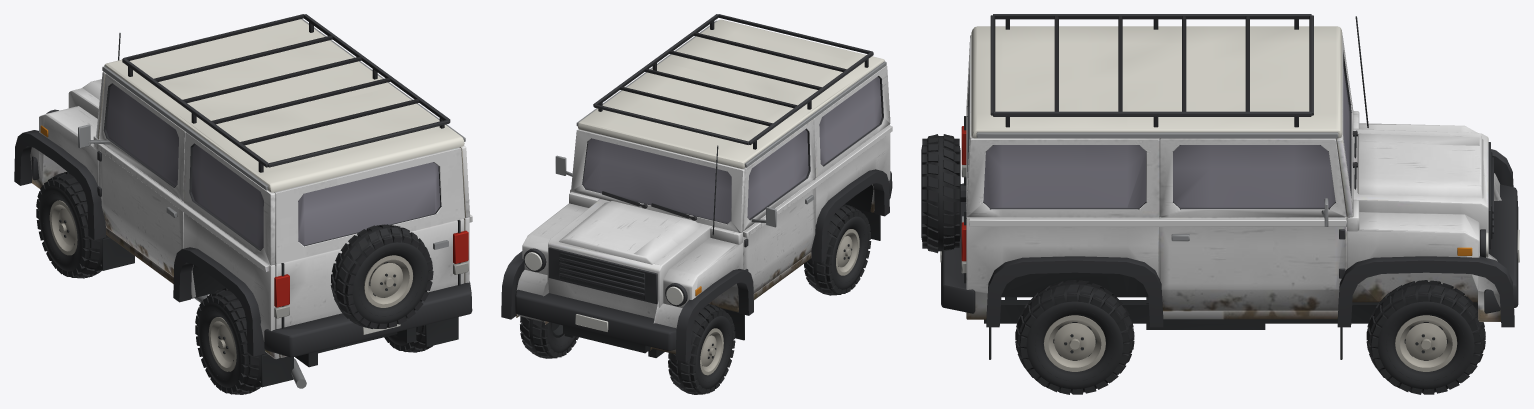
File: guardian.m.glb
The picture shows the model from 3 angles, left to right: view 1: azimuth 30°, elevation 25°; view 2: azimuth 150°, elevation 25°; view 3: azimuth 270°, elevation 25°; orthographic projection. The views are drawn at different scales.
Parts seen in each view (by area): view 1: body, door_FL, wheel_FL, wheel_RL, wheel_RR; view 2: body, door_FL, wheel_FL, wheel_RL, wheel_FR; view 3: body, door_FR, wheel_RR, wheel_FR.
Part boxes in pixels (<box>): body: <box>14,14,472,388</box>; door_FL: <box>78,73,185,276</box>; wheel_FL: <box>36,171,108,278</box>; wheel_RL: <box>195,288,267,394</box>; wheel_RR: <box>384,325,432,352</box>; body: <box>501,14,892,361</box>; door_FL: <box>743,119,815,293</box>; wheel_FL: <box>668,304,735,394</box>; wheel_RL: <box>804,204,871,295</box>; wheel_FR: <box>520,316,578,358</box>; body: <box>921,14,1519,359</box>; door_FR: <box>1159,138,1346,310</box>; wheel_RR: <box>1015,280,1134,394</box>; wheel_FR: <box>1366,280,1485,394</box>.
Bounding box in the file's own units: 2.21 × 2.14 × 4.02.
17 materials, 1 textured.
